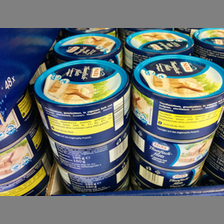fish: (32, 60, 130, 146), (133, 55, 224, 141), (123, 29, 195, 71), (53, 33, 125, 66)
